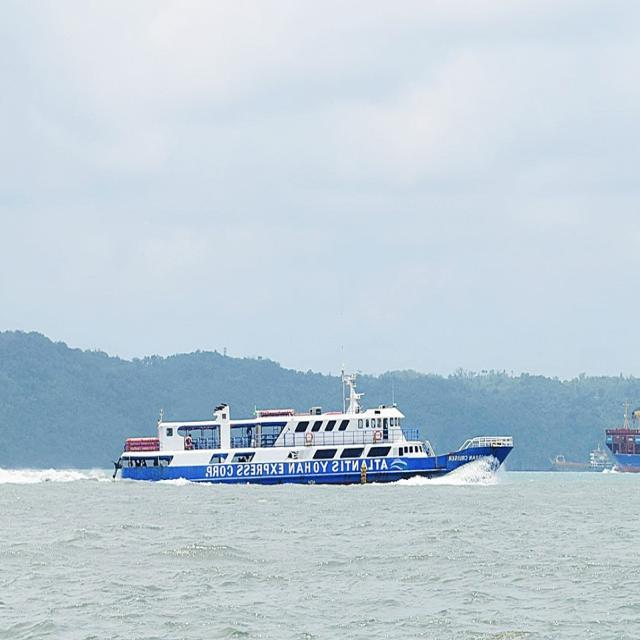houseboat: (104, 356, 522, 495)
